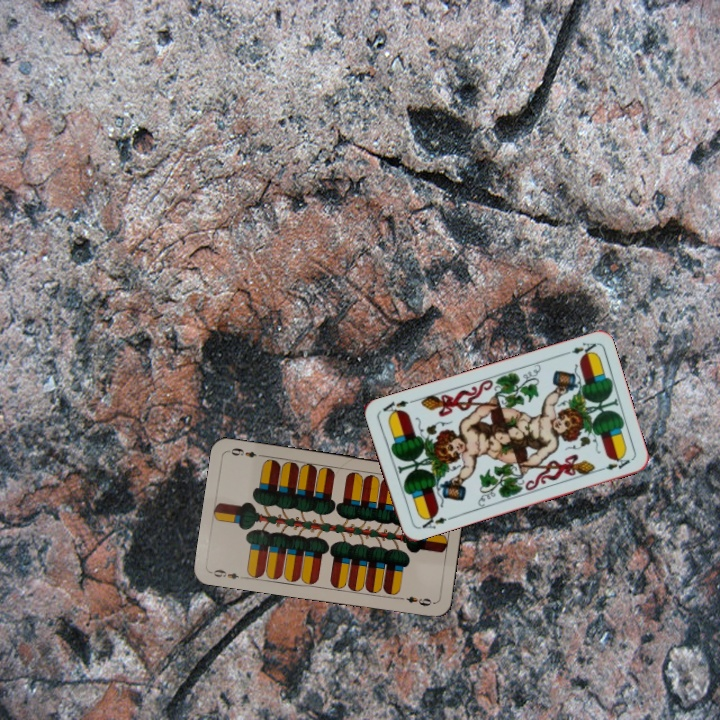E9: (208, 565, 248, 582)
EA: (558, 338, 598, 359), (418, 509, 454, 531)
